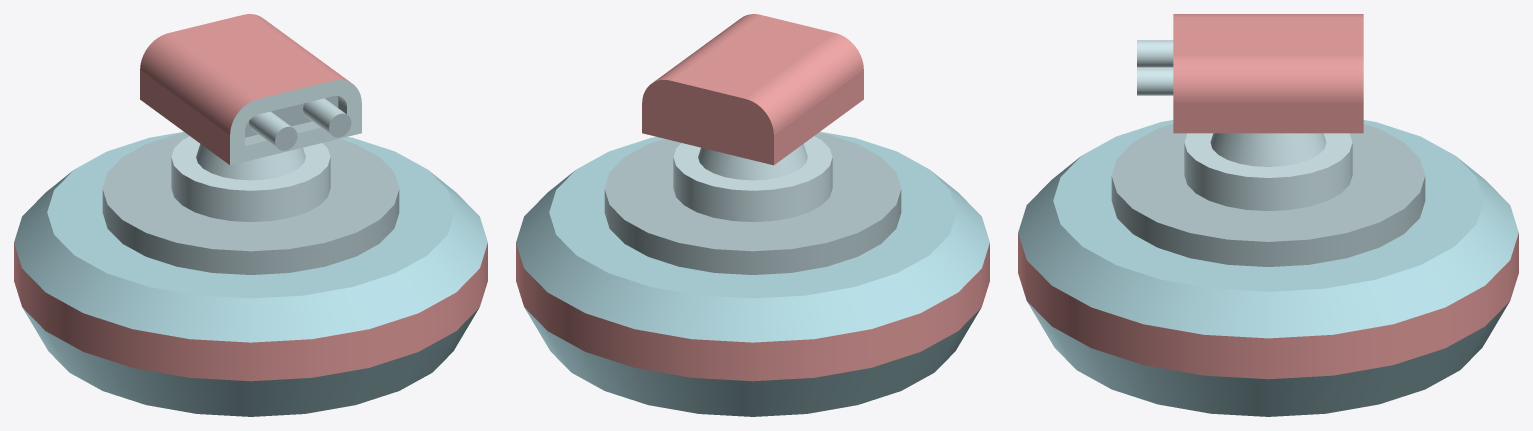
Rendered from Drilon_red.fbx.
3 views of the same model, side by side, from view 1: azimuth 30°, elevation 25°; view 2: azimuth 150°, elevation 25°; view 3: azimuth 270°, elevation 25° (orthographic). The views are drawn at different scales.
Visible parts, largest first — view 1: Red_bottom, Red_top; view 2: Red_bottom, Red_top; view 3: Red_bottom, Red_top.
Part boxes in pixels (x1,y1,x2,y2): Red_bottom: (14, 131, 487, 416); Red_top: (140, 14, 361, 221); Red_bottom: (516, 131, 989, 416); Red_top: (642, 14, 863, 221); Red_bottom: (1018, 120, 1518, 416); Red_top: (1137, 14, 1363, 210).
Size of the model in its own units: 100 by 63.21 by 100.
